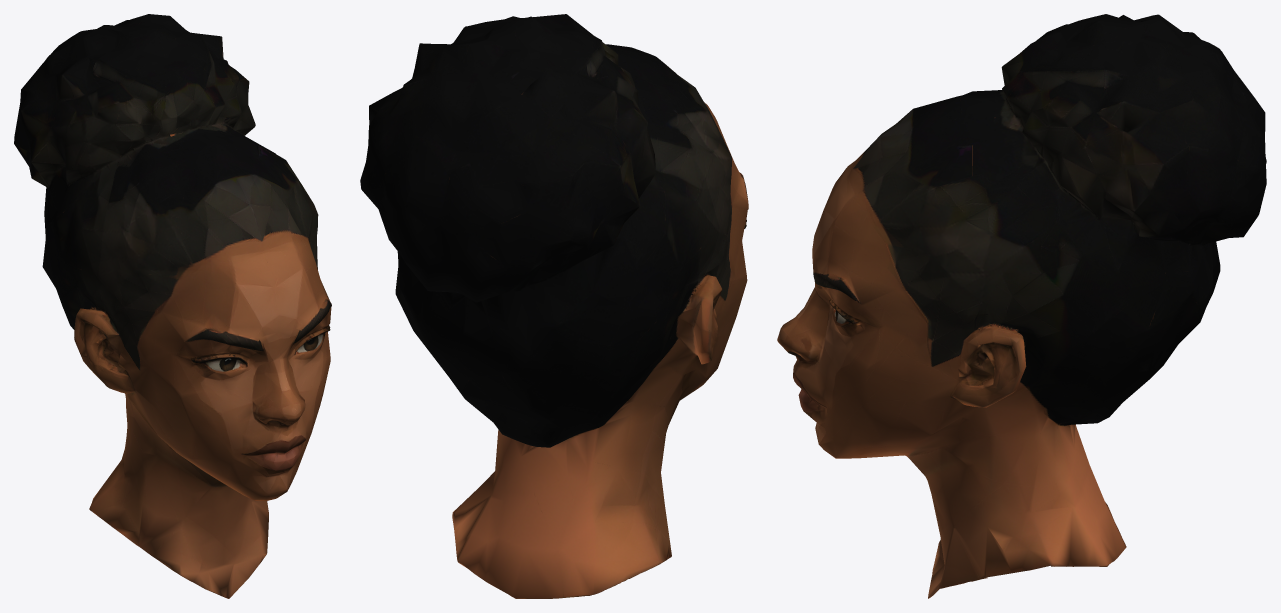
Rendered from vanguard-head.glb.
The picture shows the model from 3 angles, left to right: view 1: azimuth 30°, elevation 25°; view 2: azimuth 150°, elevation 25°; view 3: azimuth 270°, elevation 25°; orthographic projection. The views are drawn at different scales.
Parts seen in each view (by area): view 1: Mesh_0; view 2: Mesh_0; view 3: Mesh_0.
Boxes of the visible parts, bbox=[...] form: Mesh_0: bbox=[14, 14, 331, 598]; Mesh_0: bbox=[360, 14, 748, 598]; Mesh_0: bbox=[777, 14, 1266, 598].
Bounding box in the file's own units: 0.1558 × 0.336 × 0.2581.
1 material, 1 textured.
